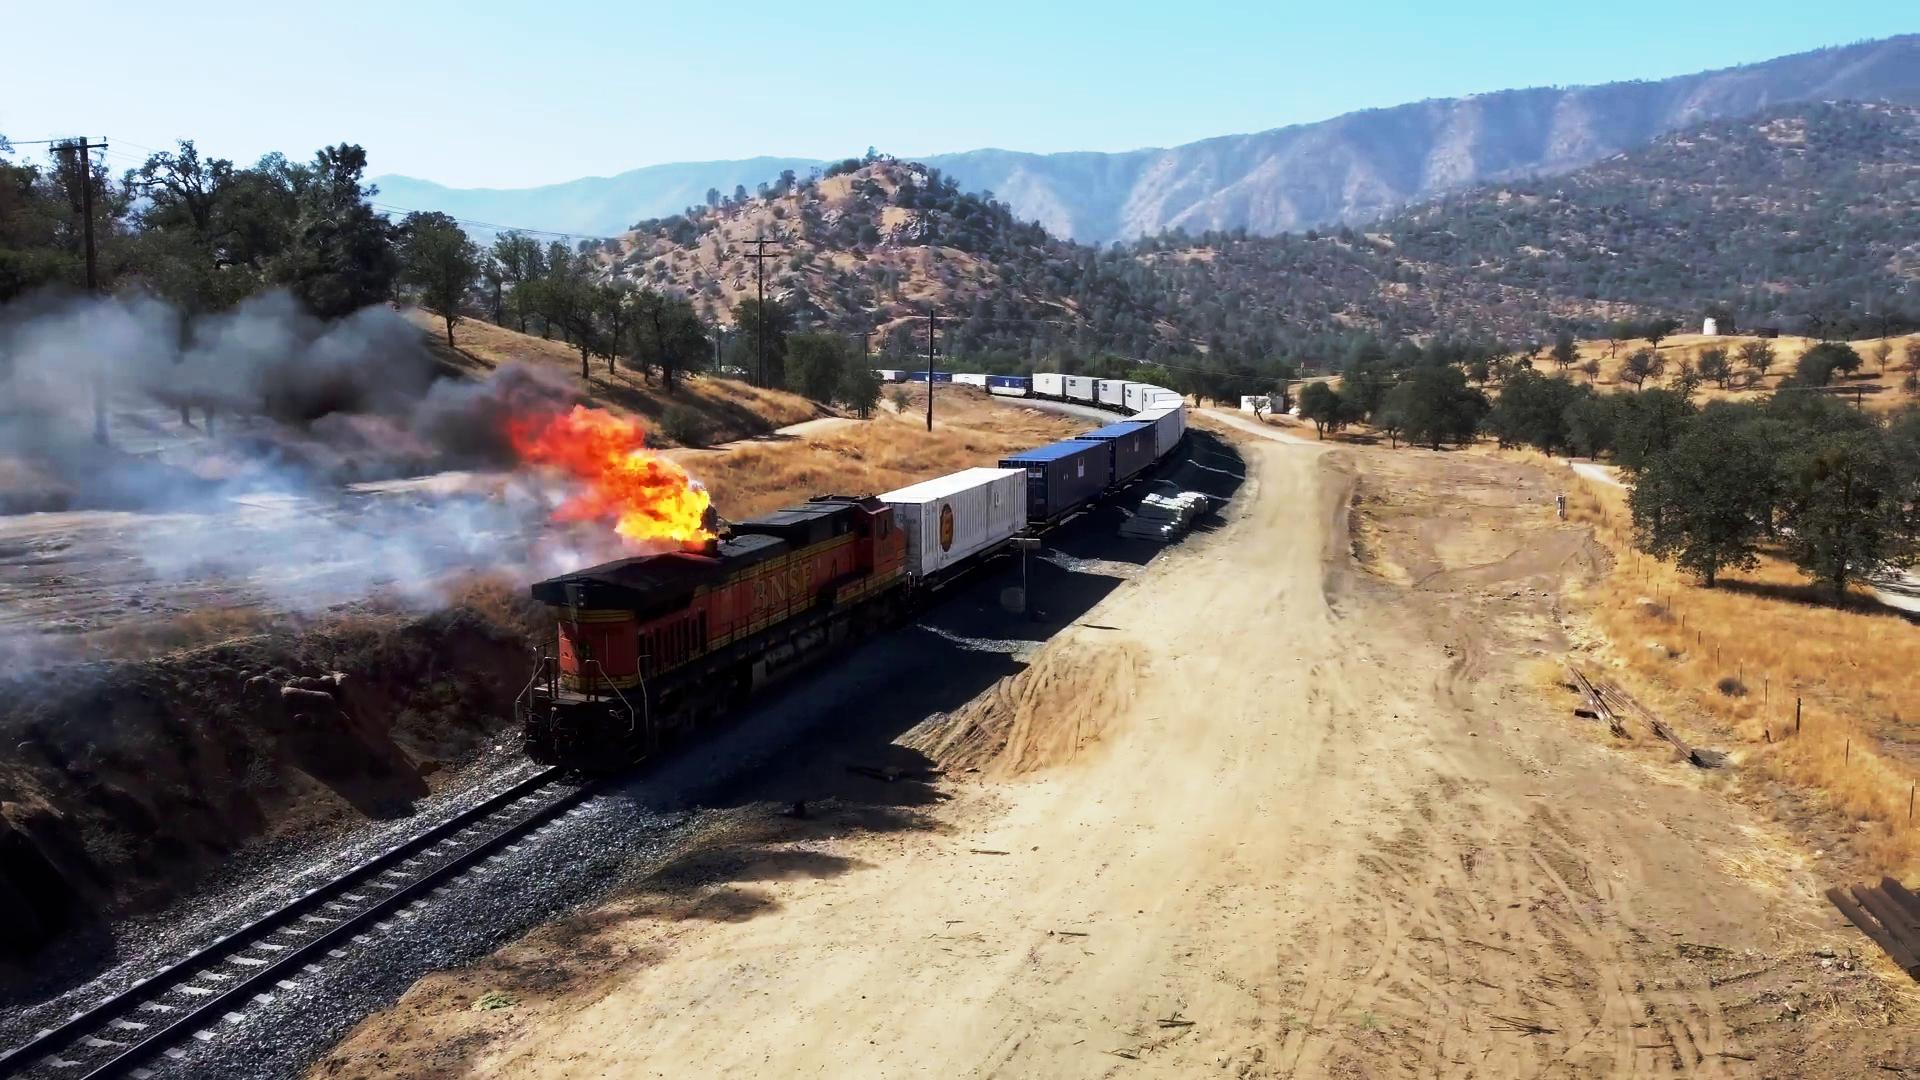fire: (549, 398, 713, 542)
